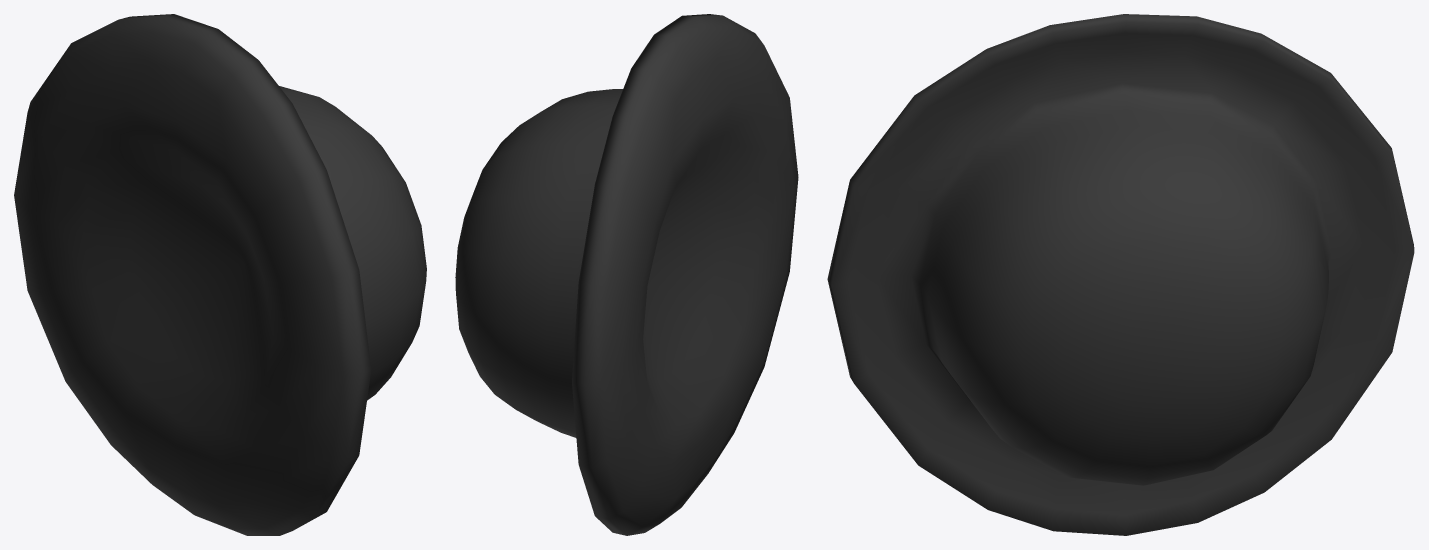
The model's file is pm0403_00_kolink_fashionweek.fbx.
The picture shows the model from 3 angles, left to right: view 1: azimuth 30°, elevation 25°; view 2: azimuth 150°, elevation 25°; view 3: azimuth 270°, elevation 25°; orthographic projection. The views are drawn at different scales.
Visible parts, largest first — view 1: pm0403_00_FashionweekSkin; view 2: pm0403_00_FashionweekSkin; view 3: pm0403_00_FashionweekSkin.
Part boxes in pixels (x1=…): pm0403_00_FashionweekSkin: x1=14, y1=14, x2=426, y2=535; pm0403_00_FashionweekSkin: x1=455, y1=14, x2=798, y2=535; pm0403_00_FashionweekSkin: x1=827, y1=14, x2=1414, y2=535.
Bounding box in the file's own units: 0.1185 × 0.2225 × 0.2293.
Materials: 1 (1 with a texture image).
